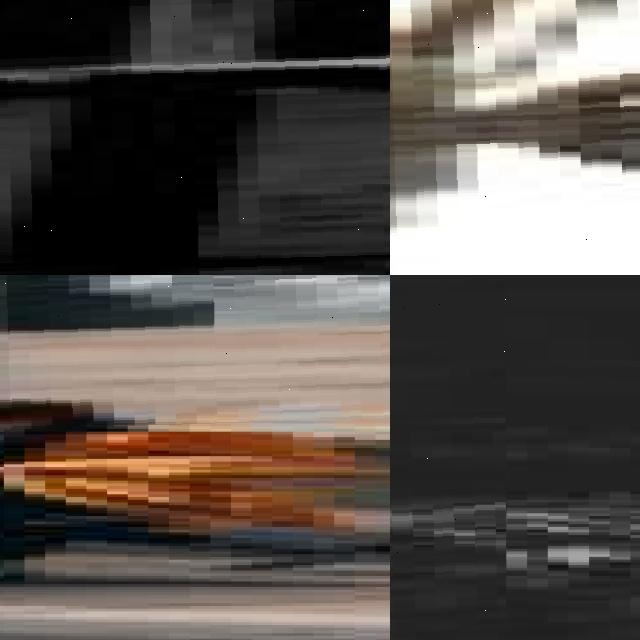street light: (0, 0, 390, 275), (390, 0, 640, 275), (0, 275, 390, 431), (390, 275, 506, 640)
